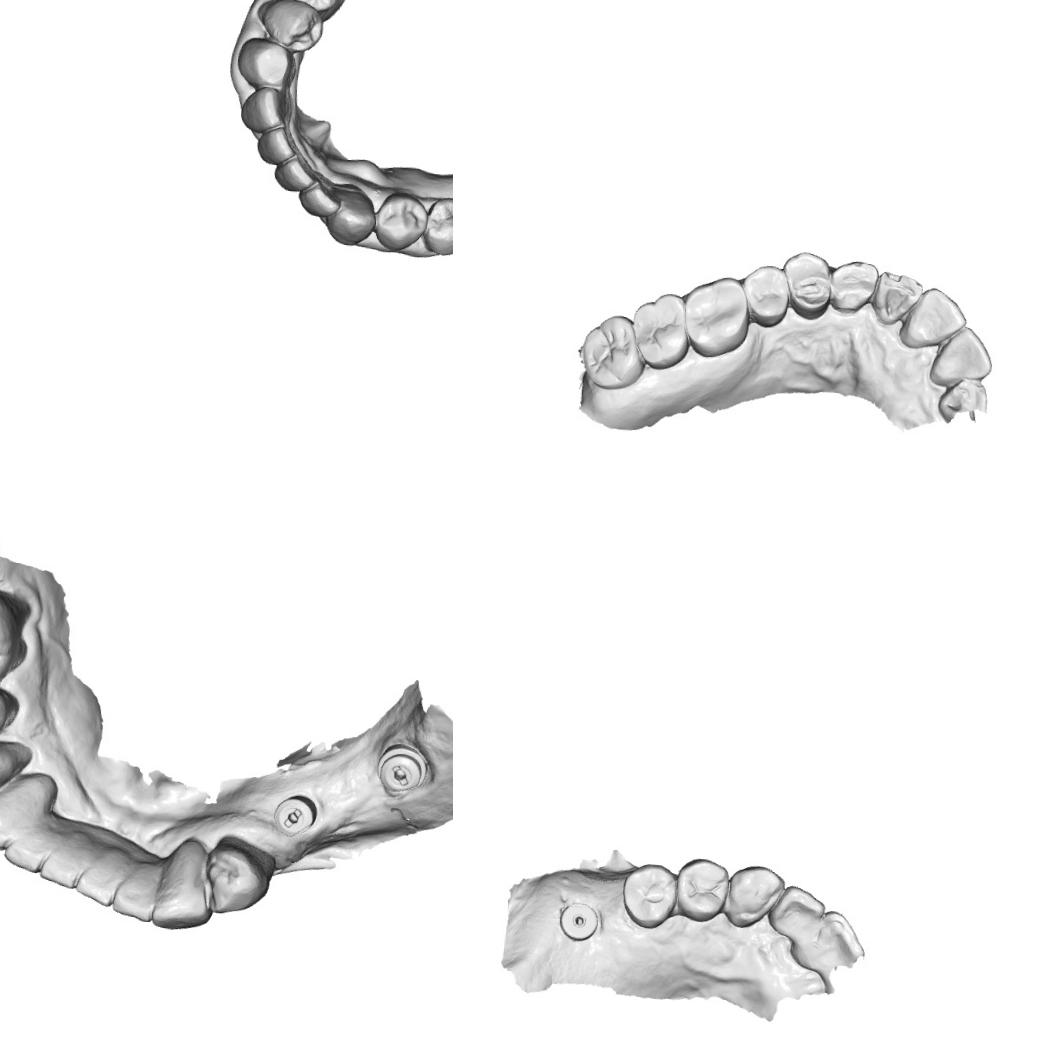canine: (148, 844, 215, 932), (723, 861, 786, 931), (234, 34, 298, 92), (322, 181, 378, 246), (827, 256, 883, 316), (0, 781, 39, 853)
implant: (556, 900, 600, 942)
implant_minus: (371, 740, 432, 794), (269, 790, 320, 842)
incisor: (787, 905, 869, 976), (900, 284, 971, 352), (928, 321, 996, 389), (868, 267, 927, 331), (764, 882, 827, 940), (108, 865, 164, 922), (70, 856, 122, 909), (237, 83, 288, 135), (0, 824, 48, 875), (35, 842, 84, 890), (270, 152, 319, 194), (296, 177, 342, 219), (253, 124, 298, 166)
molar: (678, 272, 754, 361), (626, 288, 693, 374), (576, 311, 645, 392), (0, 579, 28, 692)
premolar: (207, 839, 267, 916), (776, 248, 836, 322), (618, 860, 680, 931), (673, 854, 731, 925), (737, 260, 794, 330), (370, 189, 430, 254), (254, 0, 325, 53), (419, 194, 453, 256), (284, 0, 344, 12)
